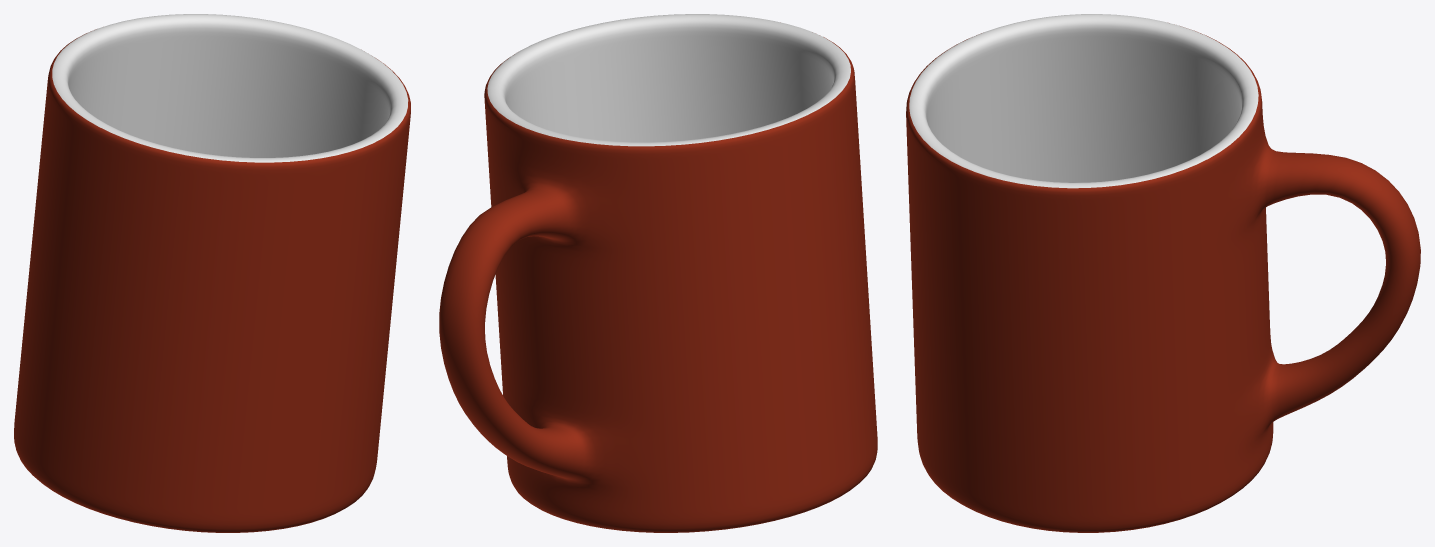
File: Taza repisa.glb
3 views of the same model, side by side, from view 1: azimuth 30°, elevation 25°; view 2: azimuth 150°, elevation 25°; view 3: azimuth 270°, elevation 25° (orthographic). The views are drawn at different scales.
Visible parts, largest first — view 1: Repisa_Taza repisa; view 2: Repisa_Taza repisa; view 3: Repisa_Taza repisa.
Part boxes in pixels (x1,y1,x2,y2): Repisa_Taza repisa: (14, 14, 410, 532); Repisa_Taza repisa: (439, 14, 877, 532); Repisa_Taza repisa: (906, 14, 1420, 532).
Size of the model in its own units: 0.2043 by 0.2271 by 0.2719.
